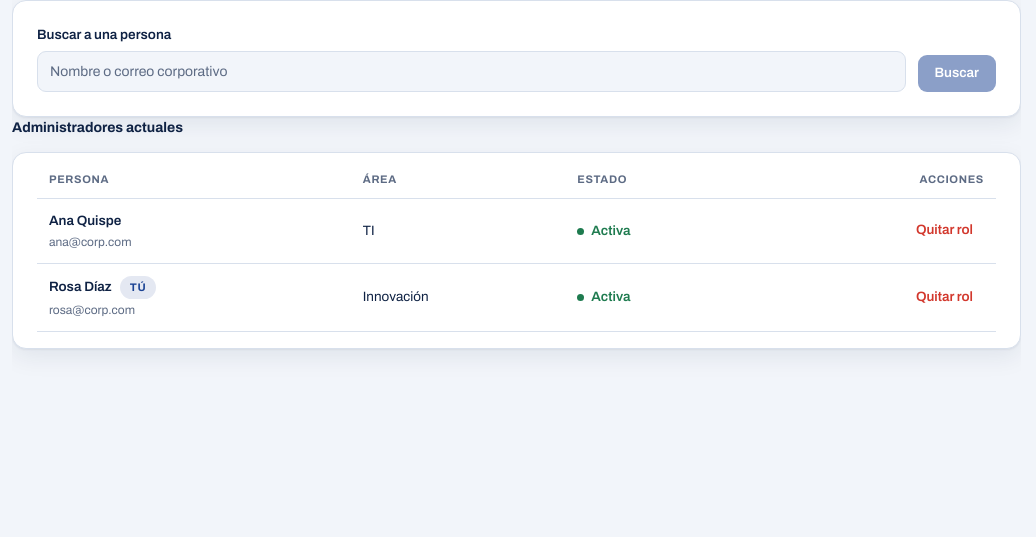
Test: <AdministradoresAdmin /> — la promoción › muestra el rechazo del servidor sin tocar la lista
The width and height of the screenshot is (1036, 537).
Type "beto" into the field labelled "Buscar a una persona" at (471, 72), box top-left (37, 51), bottom-right (906, 92)
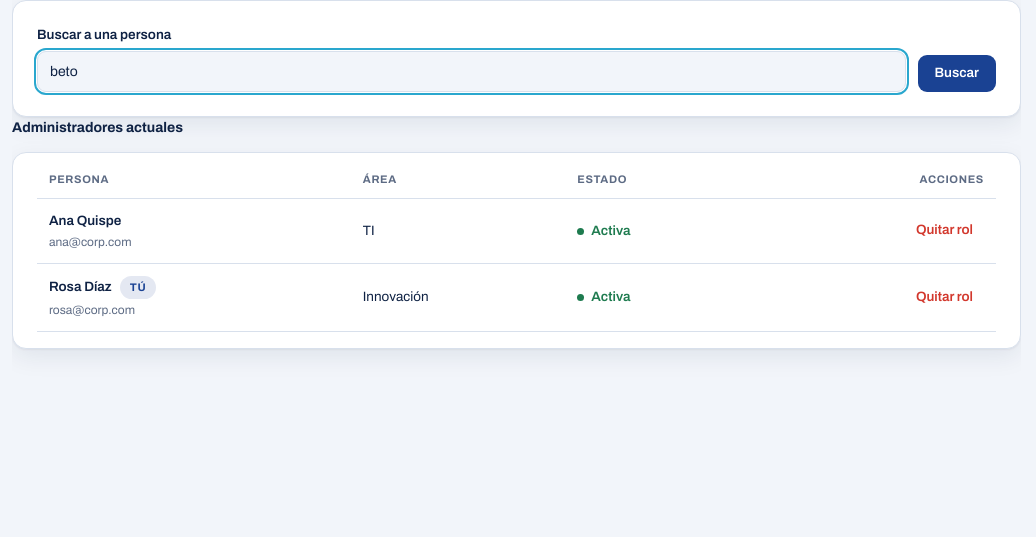
Click the button "Buscar" at (957, 74), box top-left (918, 55), bottom-right (996, 92)
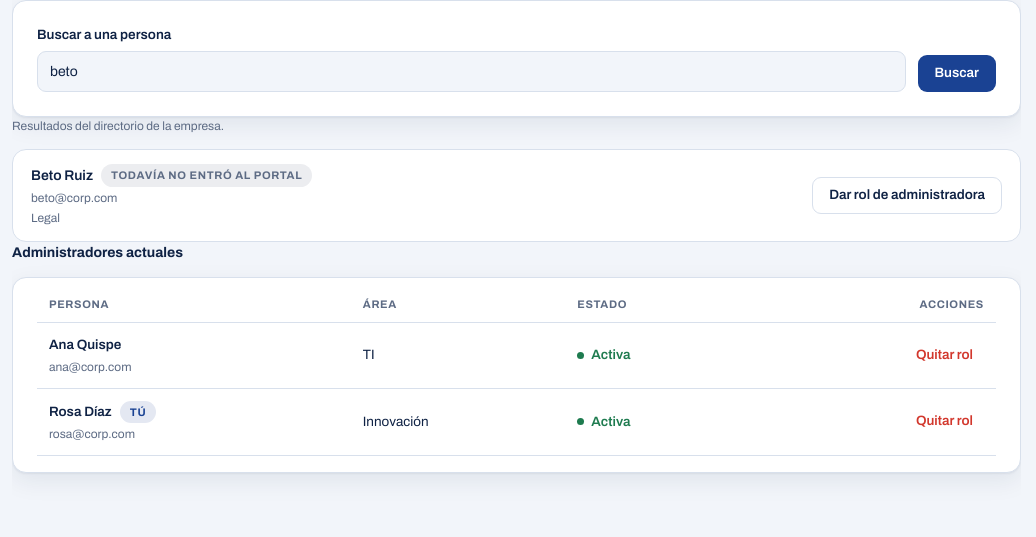
Click the button with aria-label "dar el rol" at (907, 196), box top-left (812, 177), bottom-right (1002, 214)
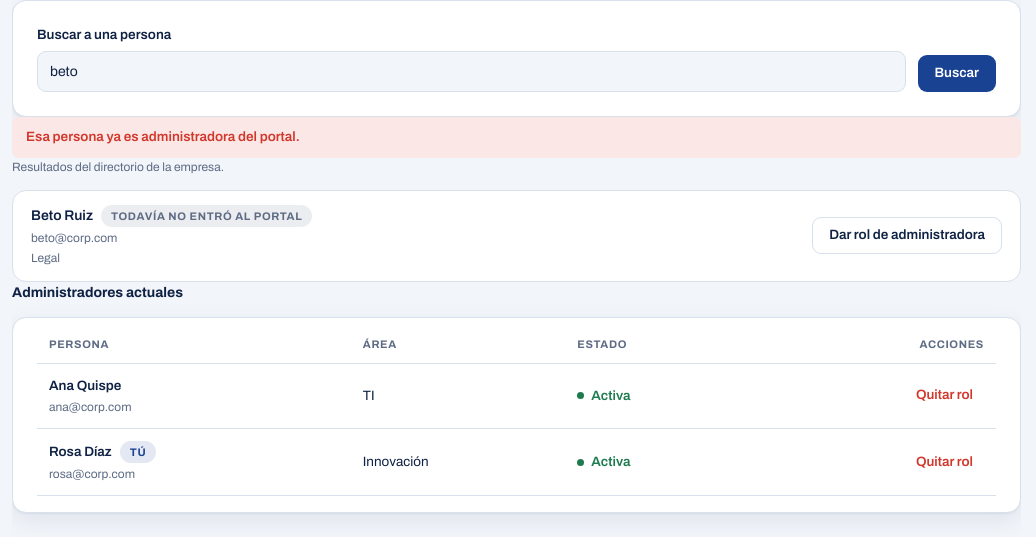
Check: the message shows "Esa persona ya es administradora", box top-left (26, 129), bottom-right (300, 144)
